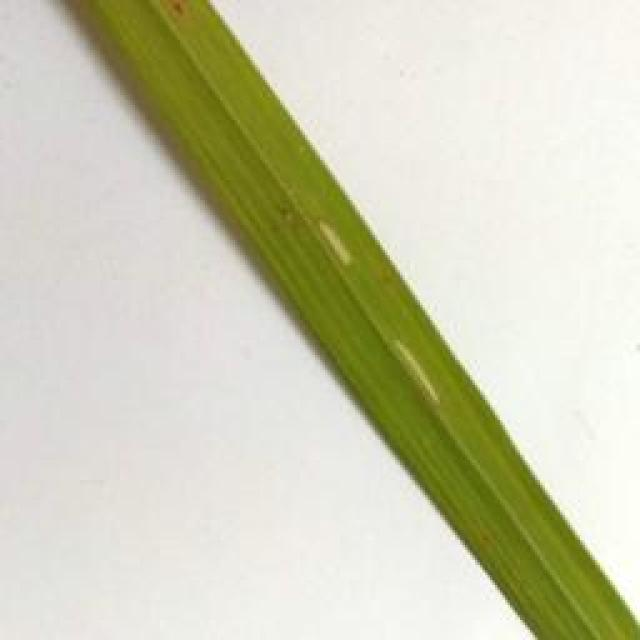Brown_Spot: (158, 0, 198, 25)
Rice_Blast: (384, 326, 454, 417), (303, 211, 360, 274)
